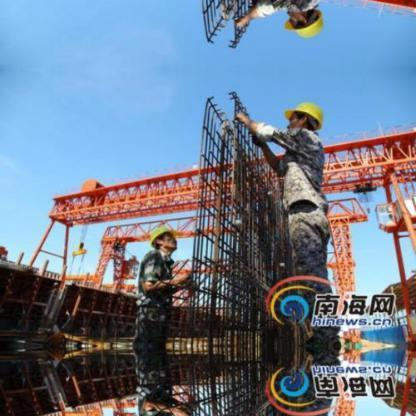helmet: (284, 95, 327, 125), (145, 224, 173, 245)
